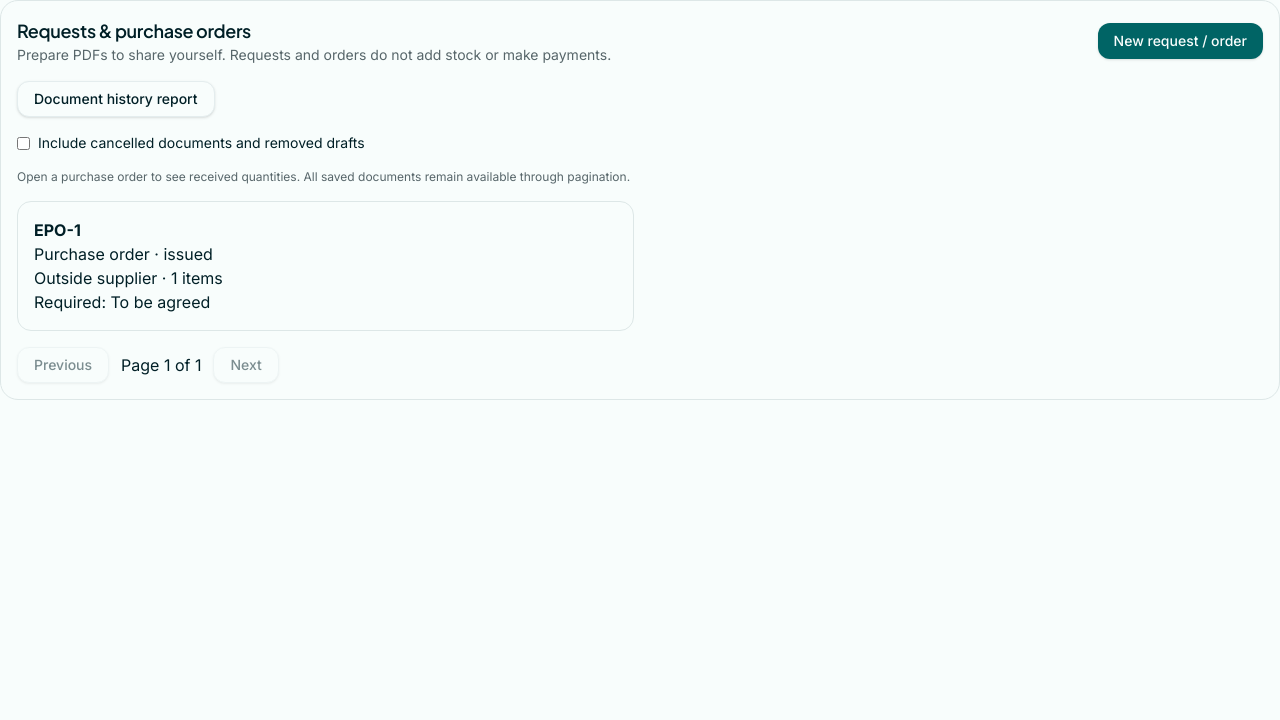
Test: creates a revised draft without changing the issued document
This screenshot has width=1280, height=720.
What coordinates should you click on to do the following:
click the button that starts with "EPO-1"
I would click on:
 (57, 230)
Its box is top-left (17, 201), bottom-right (634, 331).
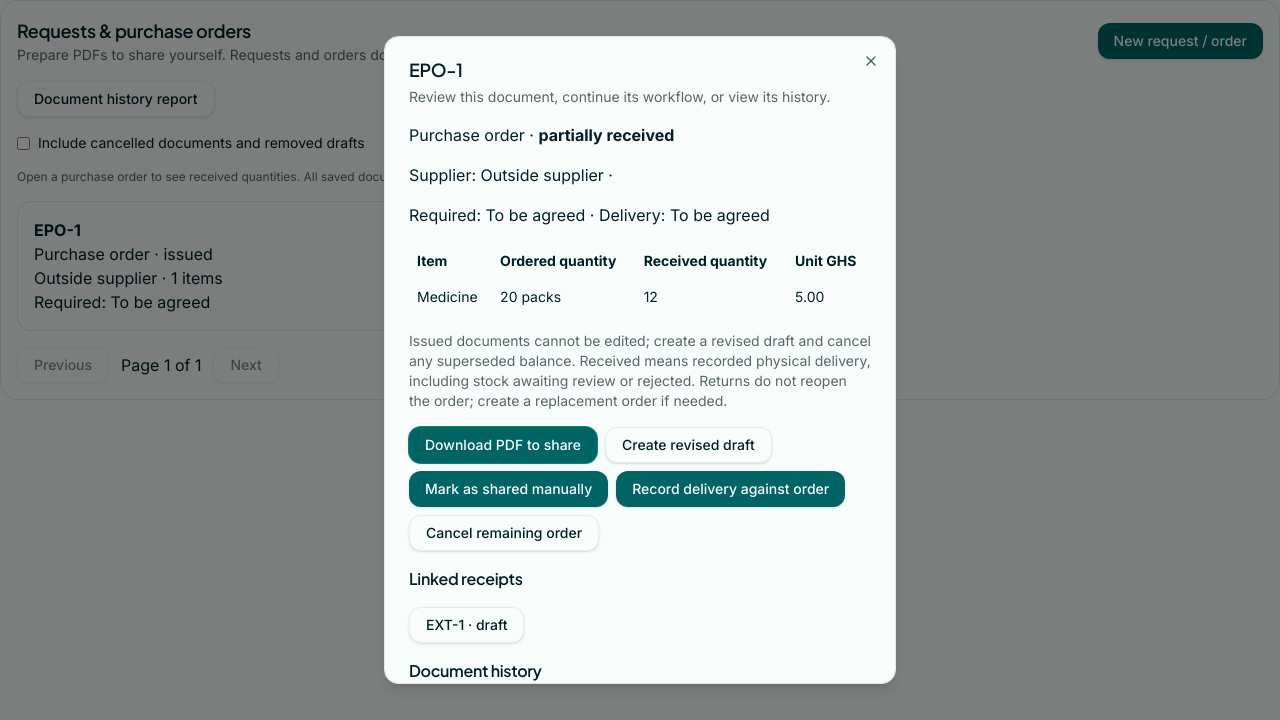
Now the button "Create revised draft" is shown
What coordinates should you click on to do the following:
click the button "Create revised draft"
I would click on:
 (688, 445)
Its box is top-left (605, 427), bottom-right (772, 463).
(page scrolled)
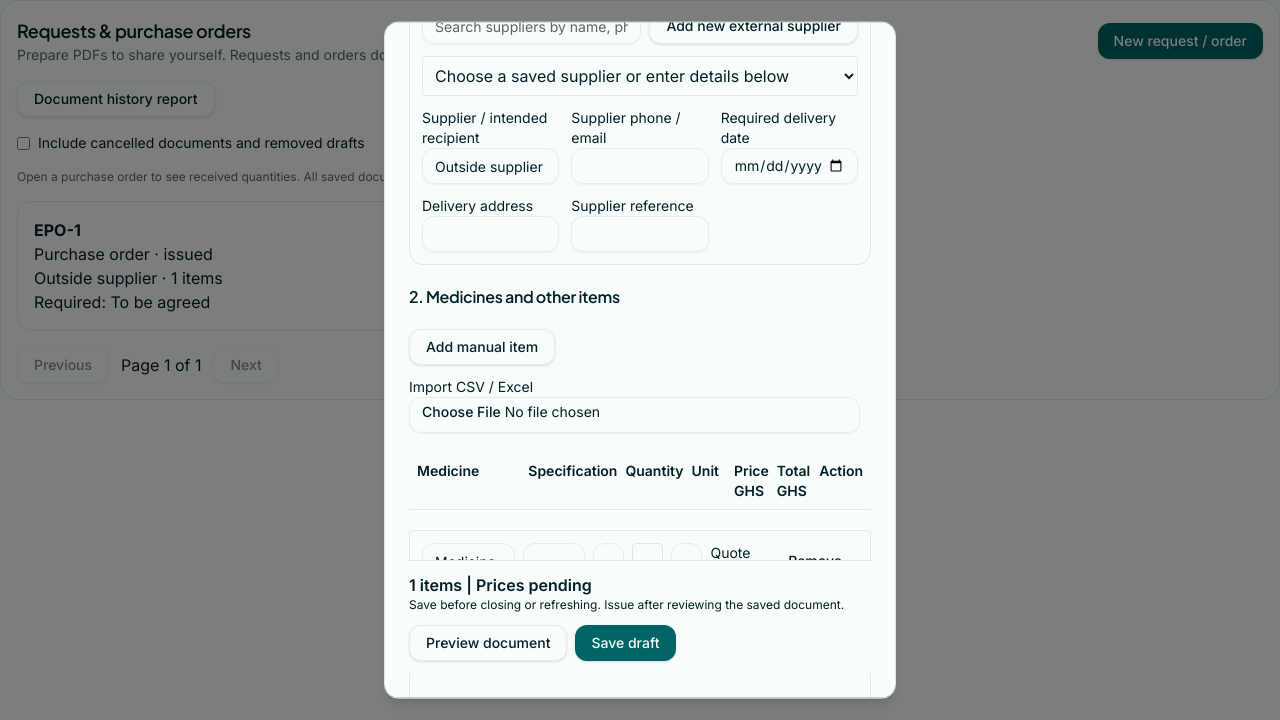
Now the form is shown, box top-left (409, 22), bottom-right (871, 698)
